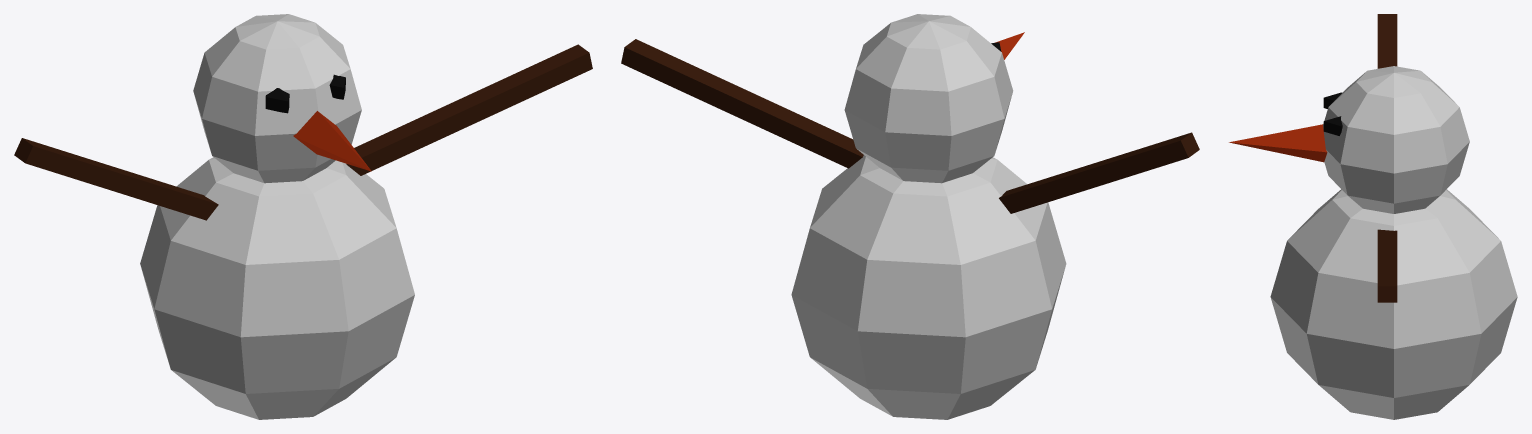
The model's file is snowmo.obj.
3 views of the same model, side by side, from view 1: azimuth 30°, elevation 25°; view 2: azimuth 150°, elevation 25°; view 3: azimuth 270°, elevation 25° (orthographic). The views are drawn at different scales.
Visible parts, largest first — view 1: Sphere, Sphere.001, Cube.001_Cube.002, Cube_Cube.001, Cone; view 2: Sphere, Sphere.001, Cube.001_Cube.002, Cube_Cube.001; view 3: Sphere, Sphere.001, Cone, Cube.001_Cube.002, Cube_Cube.001, Sphere.002.
Boxes of the visible parts, left/top/right/bottom form: Sphere: left=140, top=157, right=414, bottom=419; Sphere.001: left=193, top=14, right=361, bottom=183; Cube.001_Cube.002: left=346, top=44, right=592, bottom=175; Cube_Cube.001: left=14, top=138, right=218, bottom=220; Cone: left=293, top=111, right=371, bottom=171; Sphere: left=791, top=155, right=1066, bottom=419; Sphere.001: left=844, top=14, right=1013, bottom=183; Cube.001_Cube.002: left=621, top=39, right=863, bottom=168; Cube_Cube.001: left=999, top=132, right=1199, bottom=213; Sphere: left=1270, top=189, right=1517, bottom=419; Sphere.001: left=1323, top=66, right=1469, bottom=213; Cone: left=1229, top=124, right=1327, bottom=162; Cube.001_Cube.002: left=1377, top=229, right=1397, bottom=302; Cube_Cube.001: left=1377, top=14, right=1397, bottom=68; Sphere.002: left=1323, top=116, right=1342, bottom=135.
Bounding box in the file's own units: 4.6 × 3 × 2.34.
